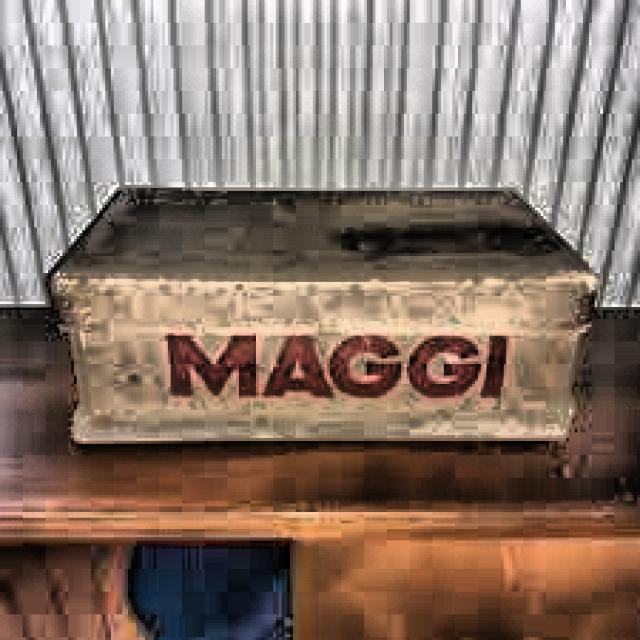Cardbox: (38, 172, 606, 449)
